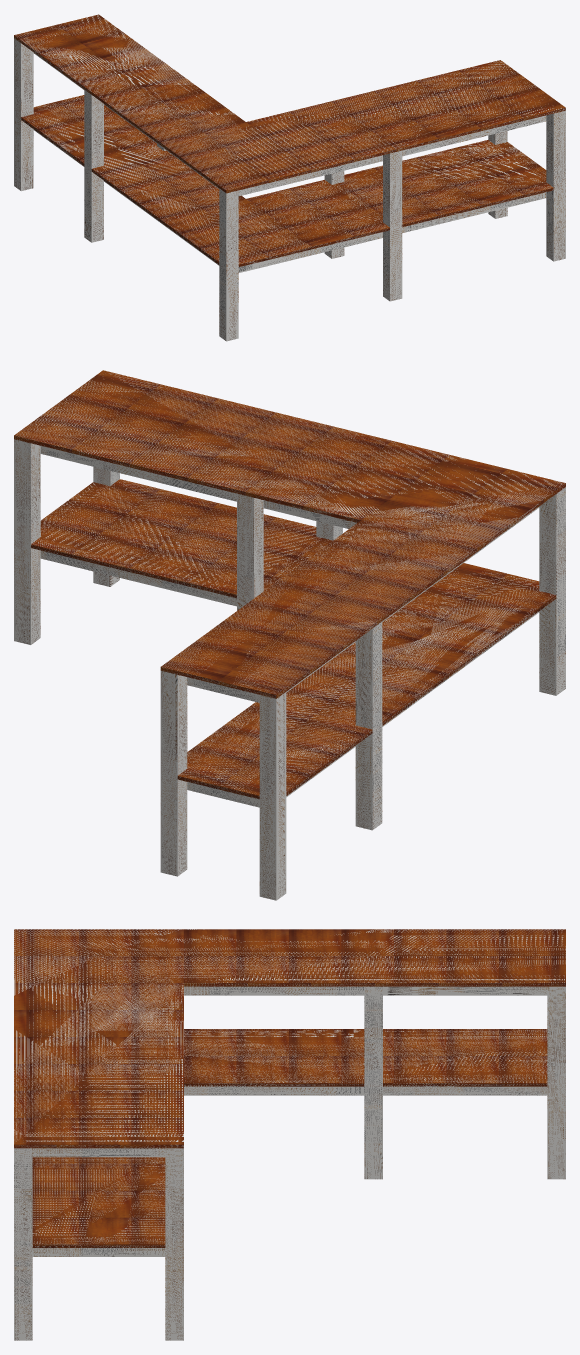
The picture shows the model from 3 angles, top to bottom: view 1: azimuth 30°, elevation 25°; view 2: azimuth 150°, elevation 25°; view 3: azimuth 270°, elevation 25°; orthographic projection. The views are drawn at different scales.
Parts seen in each view (by area): view 1: mesh1_mesh1-geometry; view 2: mesh1_mesh1-geometry; view 3: mesh1_mesh1-geometry.
Part boxes in pixels (left/top/right/bottom): mesh1_mesh1-geometry: left=14, top=14, right=565, bottom=341; mesh1_mesh1-geometry: left=14, top=370, right=565, bottom=900; mesh1_mesh1-geometry: left=14, top=929, right=565, bottom=1340.
Size of the model in its own units: 0.6518 by 0.2767 by 0.7061.
